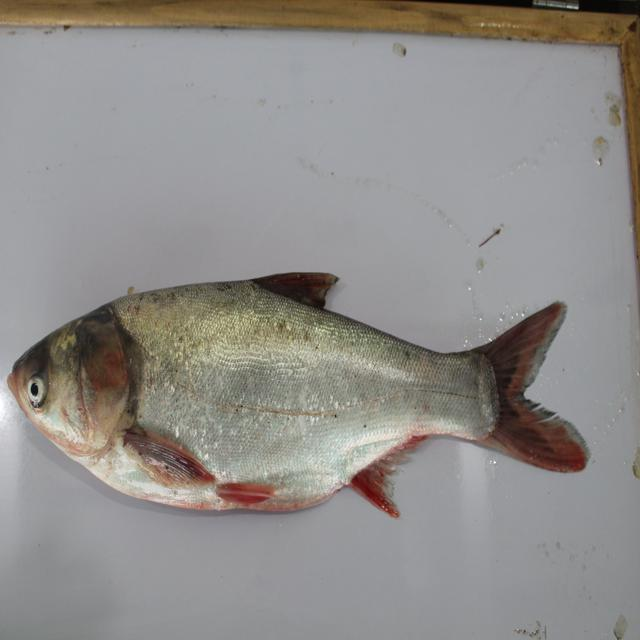SilverCarp: (1, 291, 602, 514)
